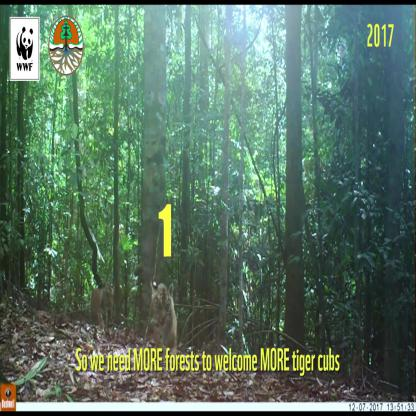Tiger: (148, 275, 180, 346), (86, 278, 115, 328)
